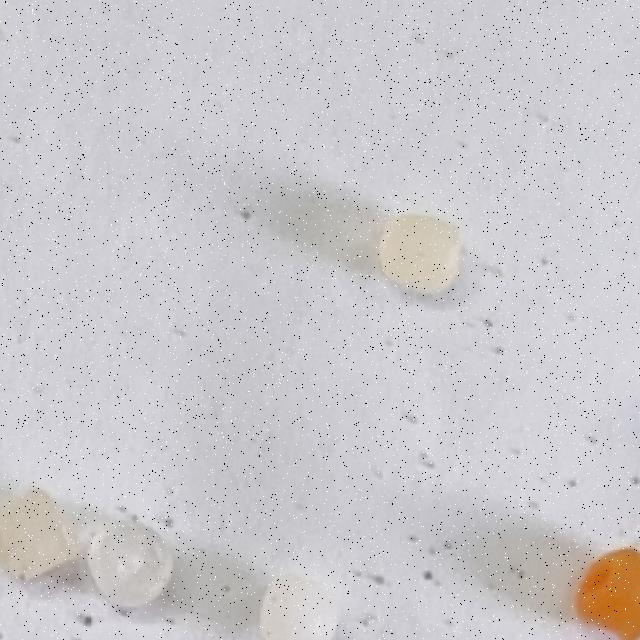beads: (0, 483, 85, 589), (87, 523, 171, 609), (381, 215, 461, 295), (573, 547, 640, 640), (263, 576, 339, 639)
